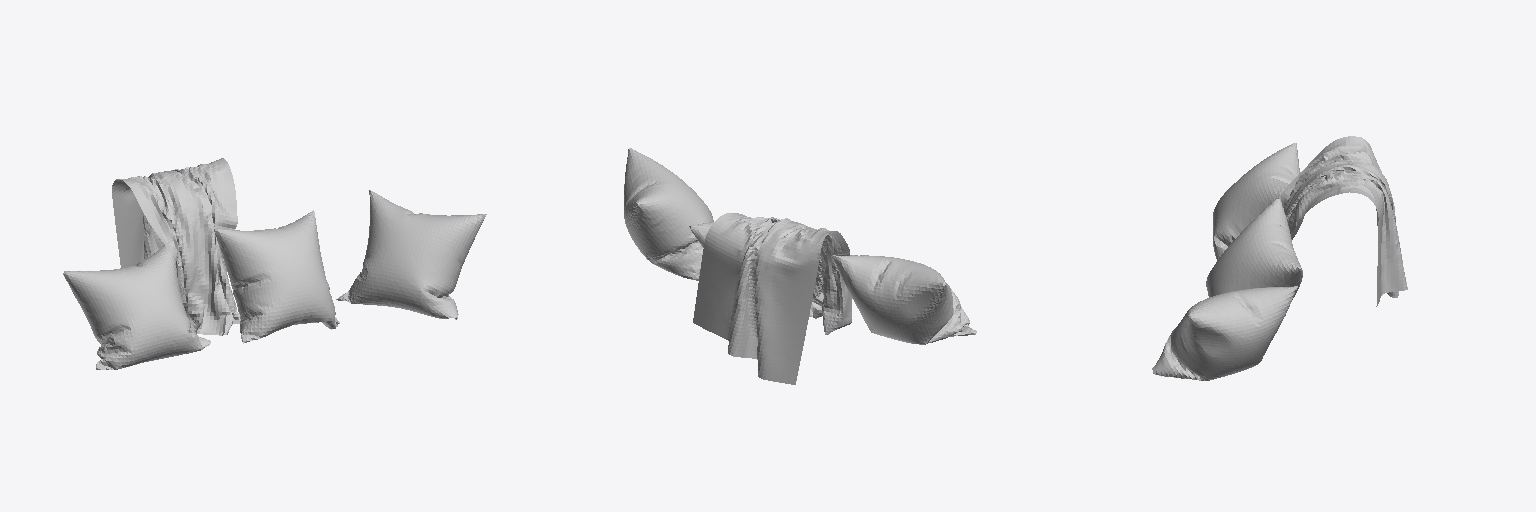
The model's file is couch_1.obj.
3 renders of one model, left to right at view 1: azimuth 30°, elevation 25°; view 2: azimuth 150°, elevation 25°; view 3: azimuth 270°, elevation 25°, orthographic.
Visible parts, largest first — view 1: Blanket_, William:_Small_Cushion.002, William:_Small_Cushion, William:_Small_Cushion.001; view 2: Blanket_, William:_Small_Cushion, William:_Small_Cushion.002; view 3: William:_Small_Cushion.002, Blanket_, William:_Small_Cushion.001, William:_Small_Cushion.
Part boxes in pixels (left/top/right/bottom): Blanket_: left=112, top=158, right=240, bottom=335; William:_Small_Cushion.002: left=336, top=190, right=486, bottom=319; William:_Small_Cushion: left=63, top=246, right=210, bottom=369; William:_Small_Cushion.001: left=214, top=210, right=339, bottom=343; Blanket_: left=693, top=213, right=851, bottom=384; William:_Small_Cushion: left=831, top=255, right=976, bottom=344; William:_Small_Cushion.002: left=624, top=148, right=713, bottom=280; William:_Small_Cushion.002: left=1152, top=286, right=1297, bottom=380; Blanket_: left=1278, top=136, right=1407, bottom=306; William:_Small_Cushion.001: left=1206, top=199, right=1302, bottom=299; William:_Small_Cushion: left=1213, top=143, right=1304, bottom=260.
Size of the model in its own units: 1.56 by 0.5825 by 0.9299.